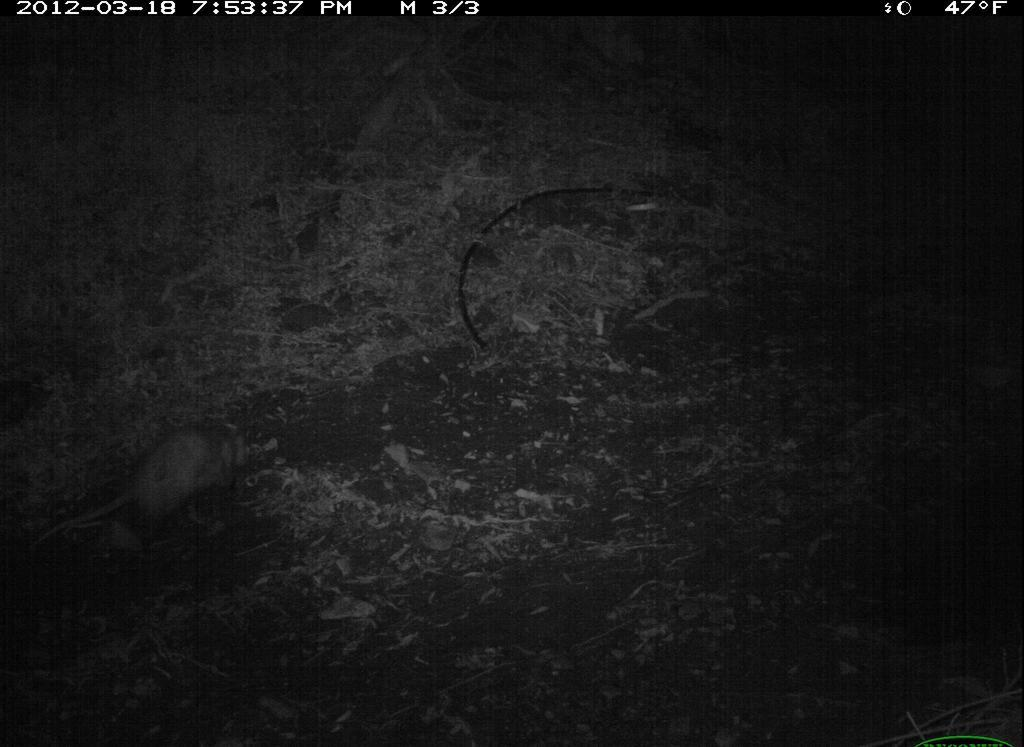opossum: (29, 410, 259, 555)
